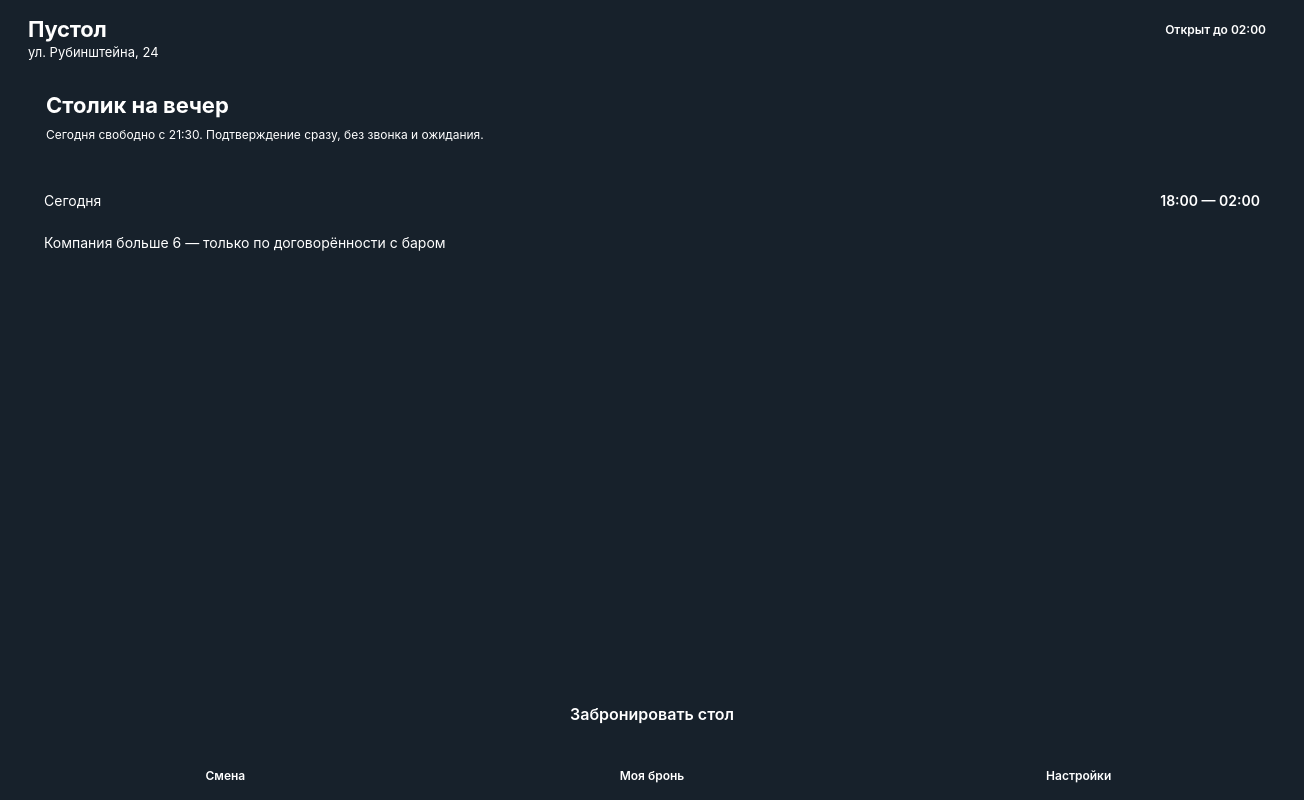
a shift left open on the bar › keeps the next evening on screen when an action on this one answers after the step
Click the button "Смена" at (225, 774), box [12,748,439,799]
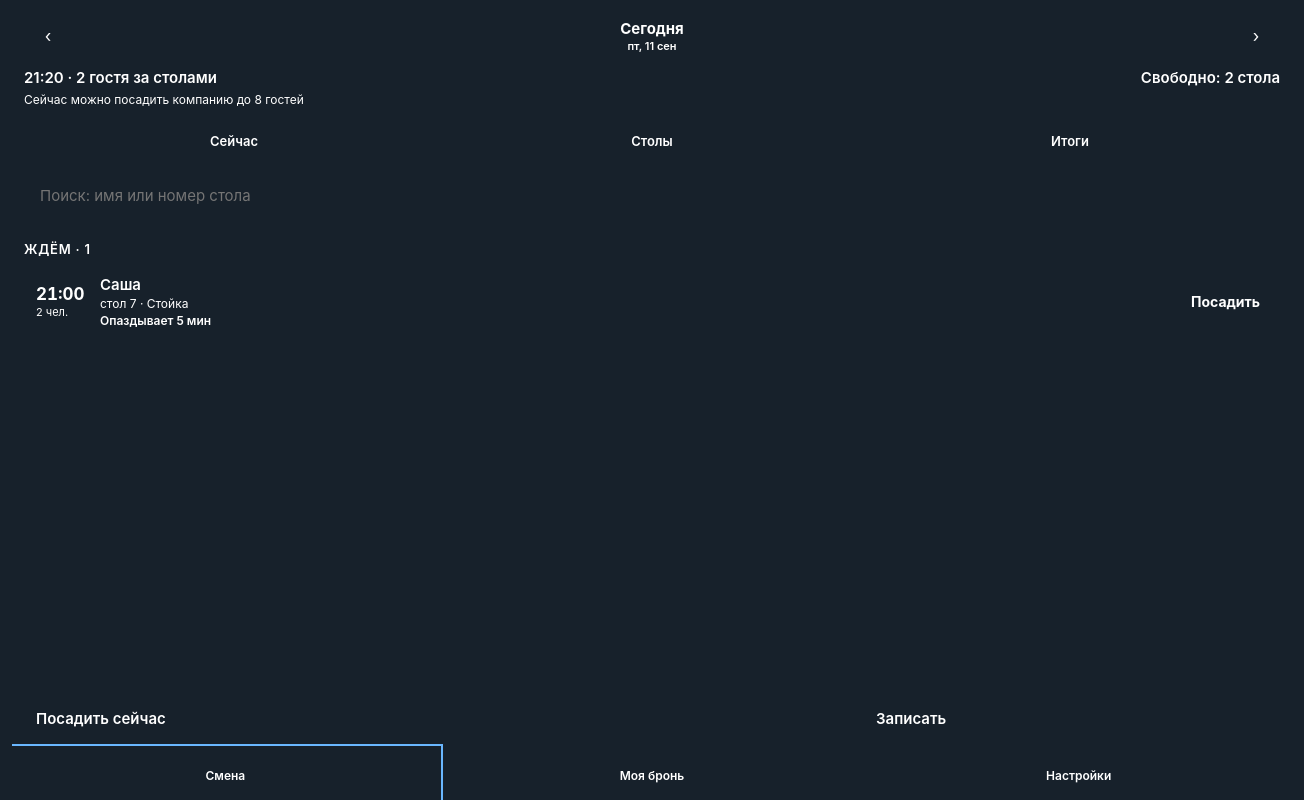
Click the button "Посадить" at (1226, 302), box [1179,280,1272,324]
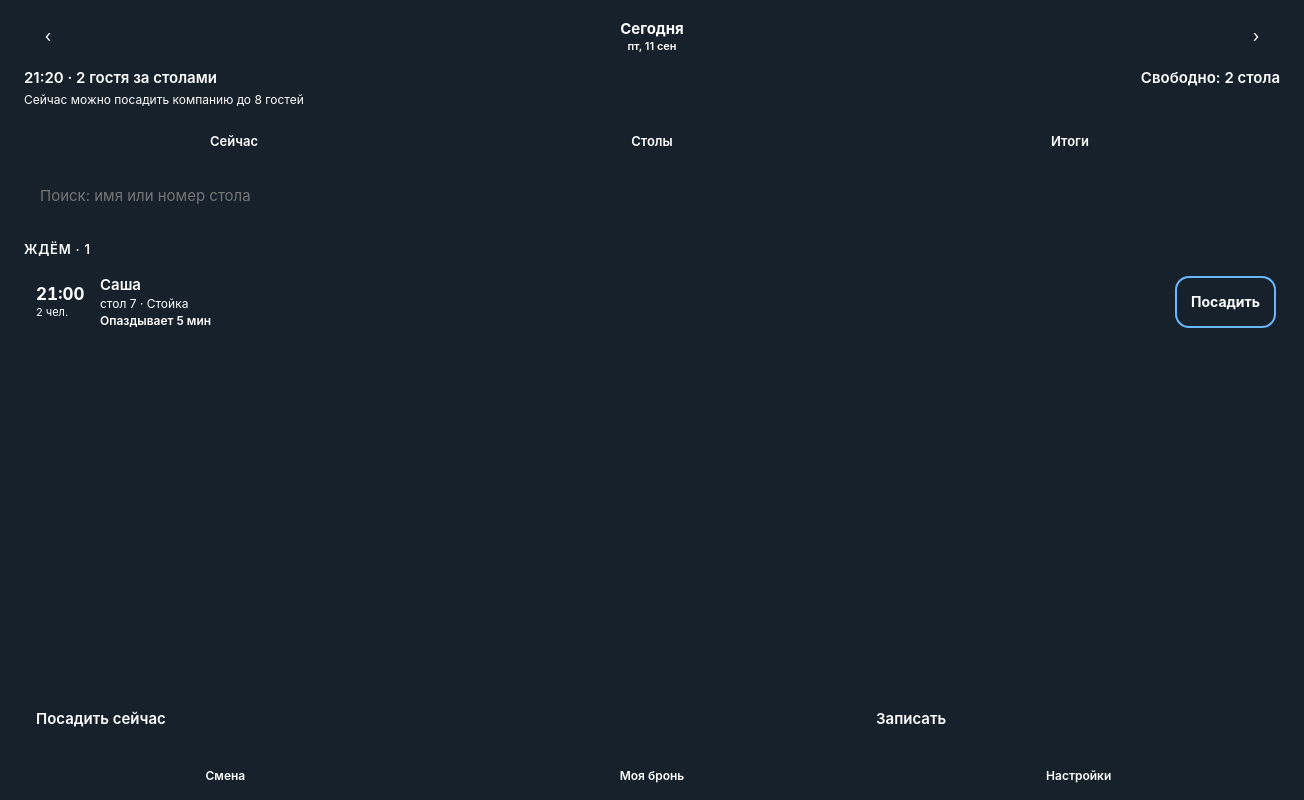
Click the button named "Следующий день" at (1256, 36), box [1232,12,1280,60]
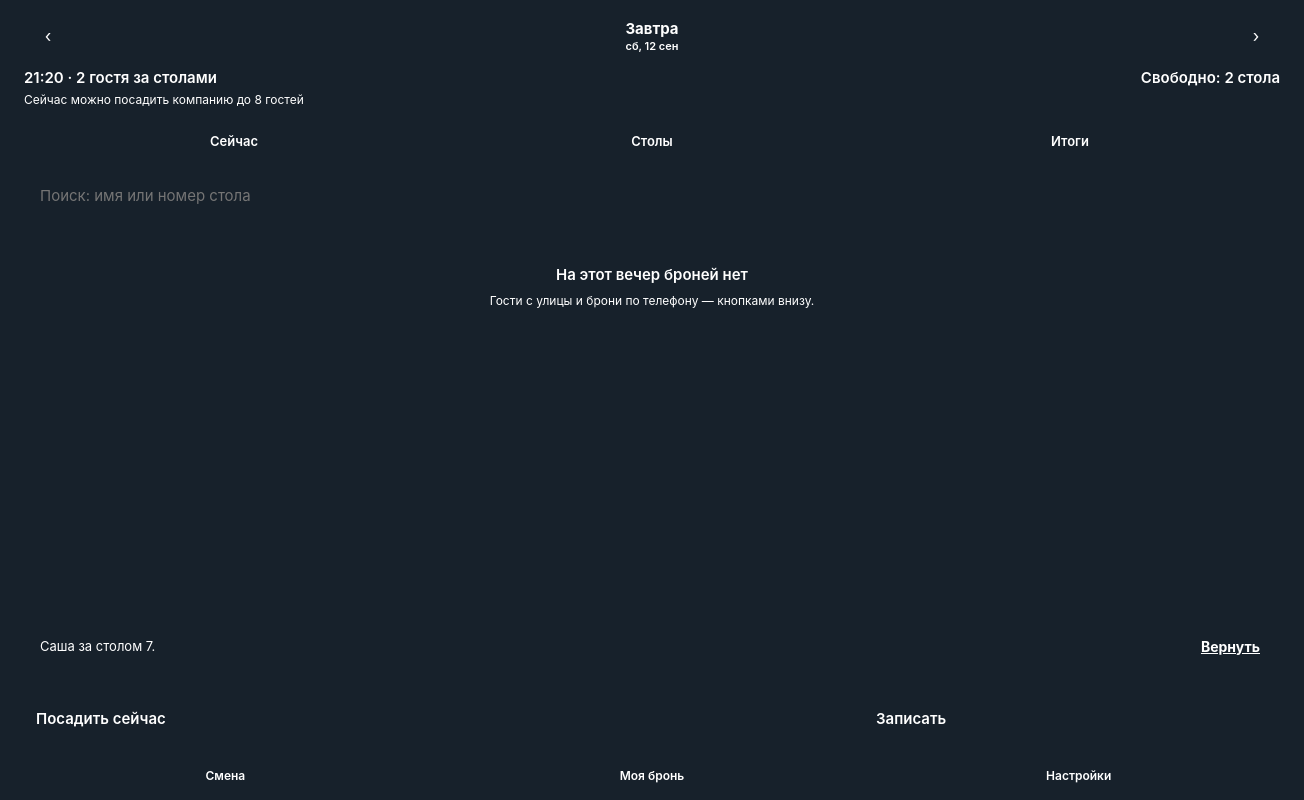
Result: the text "Саша за столом 7." is shown at [40,638,155,654]
Result: the text "сб, 12 сен" is shown at [626,39,678,53]
